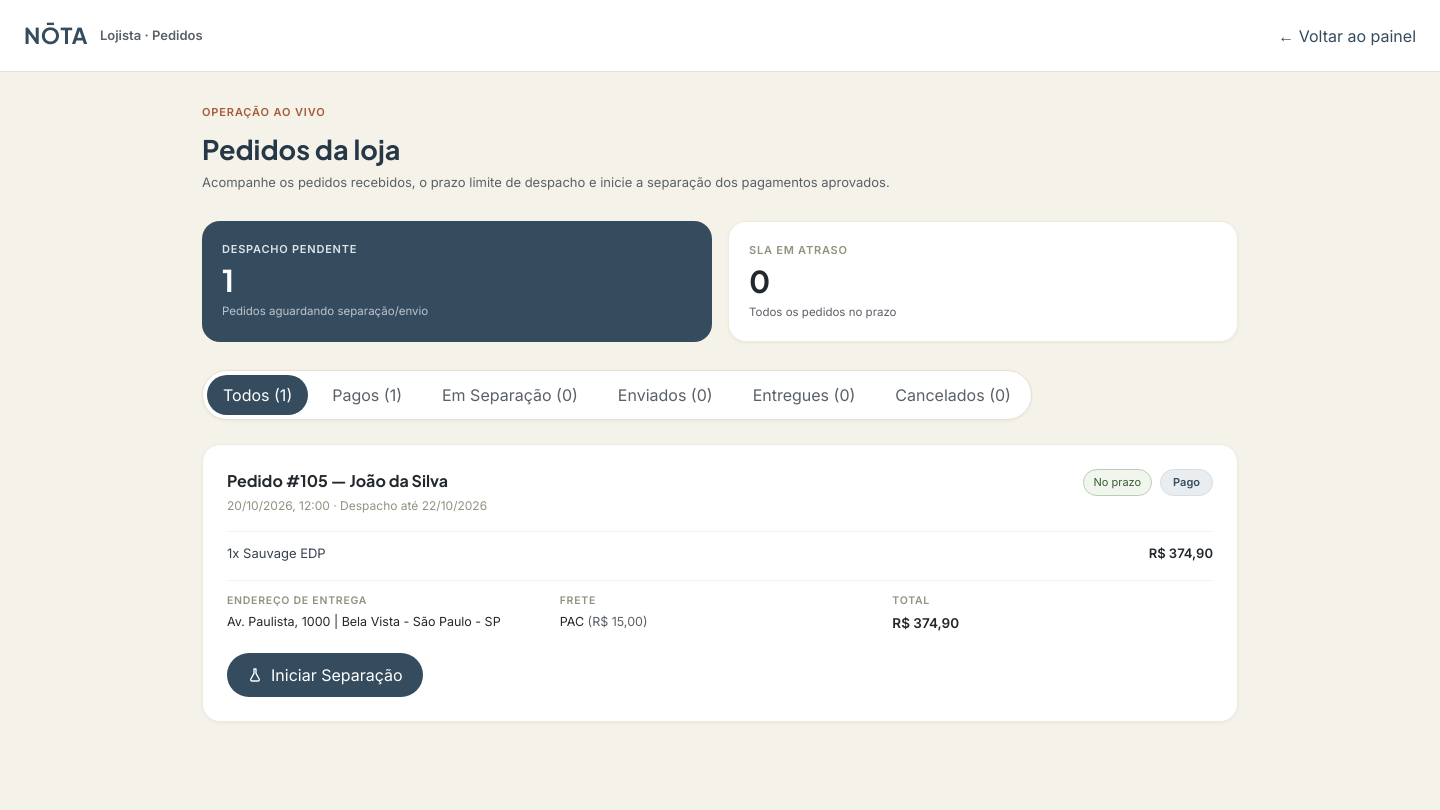
Test: StoreOrdersPage › o botão "Processar" altera visualmente o estado do pedido
The width and height of the screenshot is (1440, 810).
Click the button "Iniciar Separação".
click(325, 675)  # box x1=227 y1=653 x2=423 y2=697
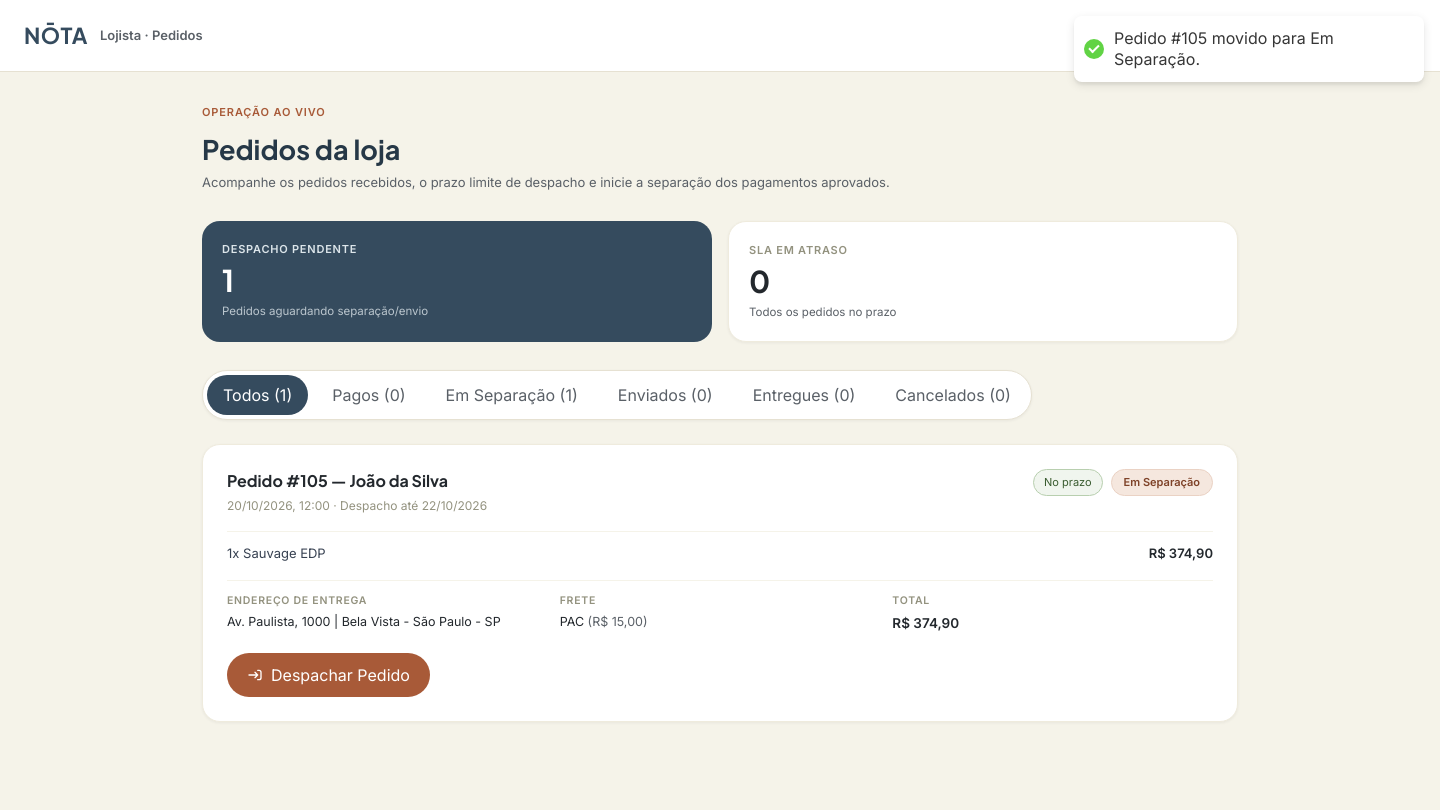
Result: the text "Em Separação" is shown at x1=1111 y1=469 x2=1213 y2=496
Result: the button "Iniciar Separação" is gone
